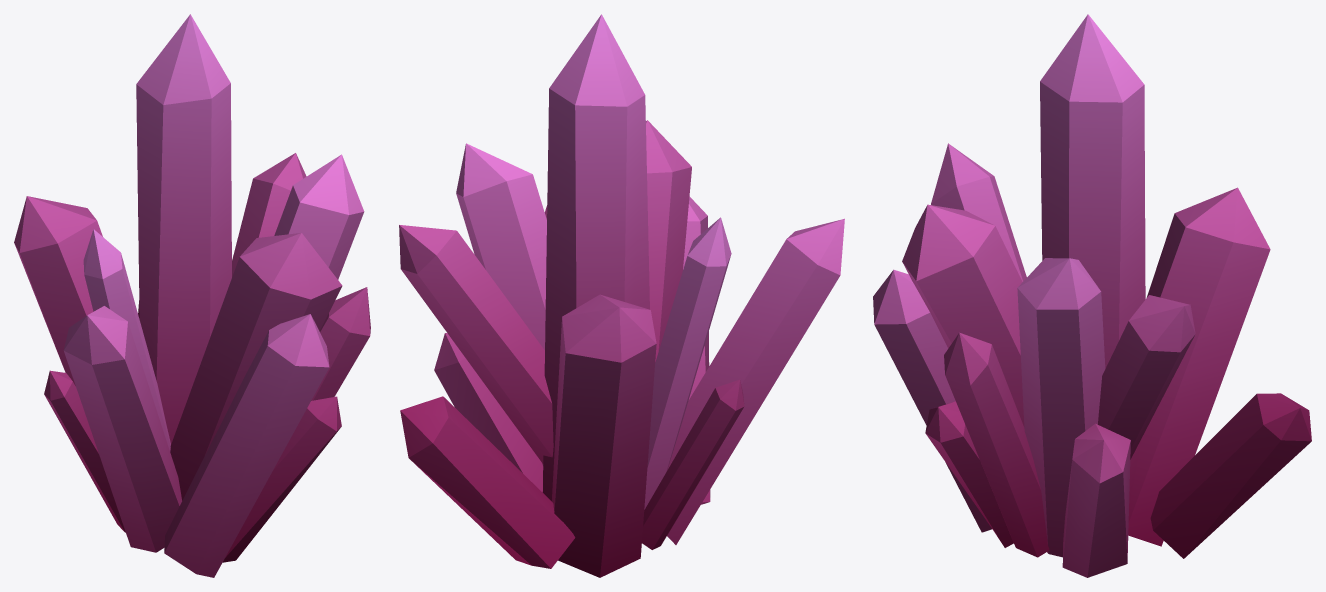
Rendered from Crystal1.fbx.
The picture shows the model from 3 angles, left to right: view 1: azimuth 30°, elevation 25°; view 2: azimuth 150°, elevation 25°; view 3: azimuth 270°, elevation 25°; orthographic projection. The views are drawn at different scales.
Parts seen in each view (by area): view 1: Окружность.045; view 2: Окружность.045; view 3: Окружность.045.
Boxes of the visible parts, box(x1,y1,x2,y2) form: Окружность.045: box(14, 14, 370, 577); Окружность.045: box(399, 14, 844, 577); Окружность.045: box(873, 14, 1311, 577).
Bounding box in the file's own units: 132 × 195 × 145.
1 material, 1 textured.
